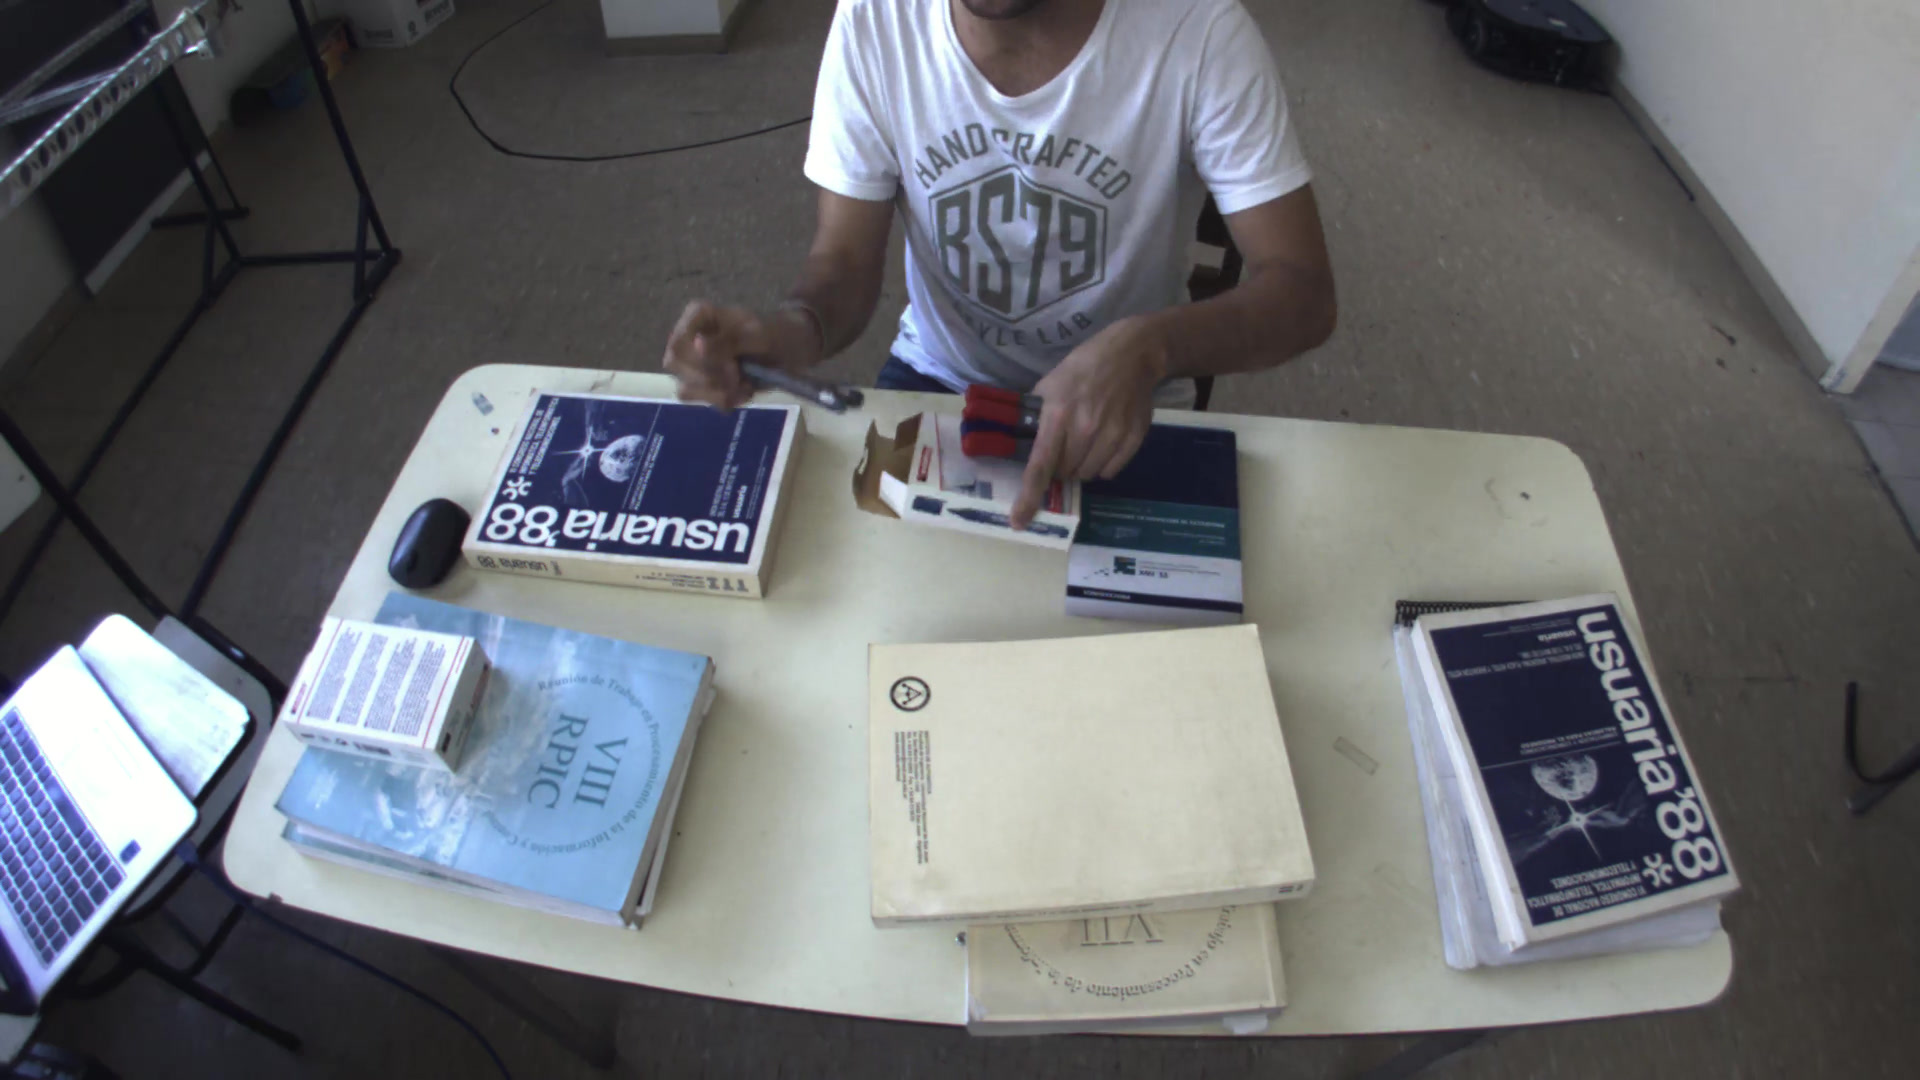hand: (1021, 318, 1167, 495), (634, 284, 814, 415)
